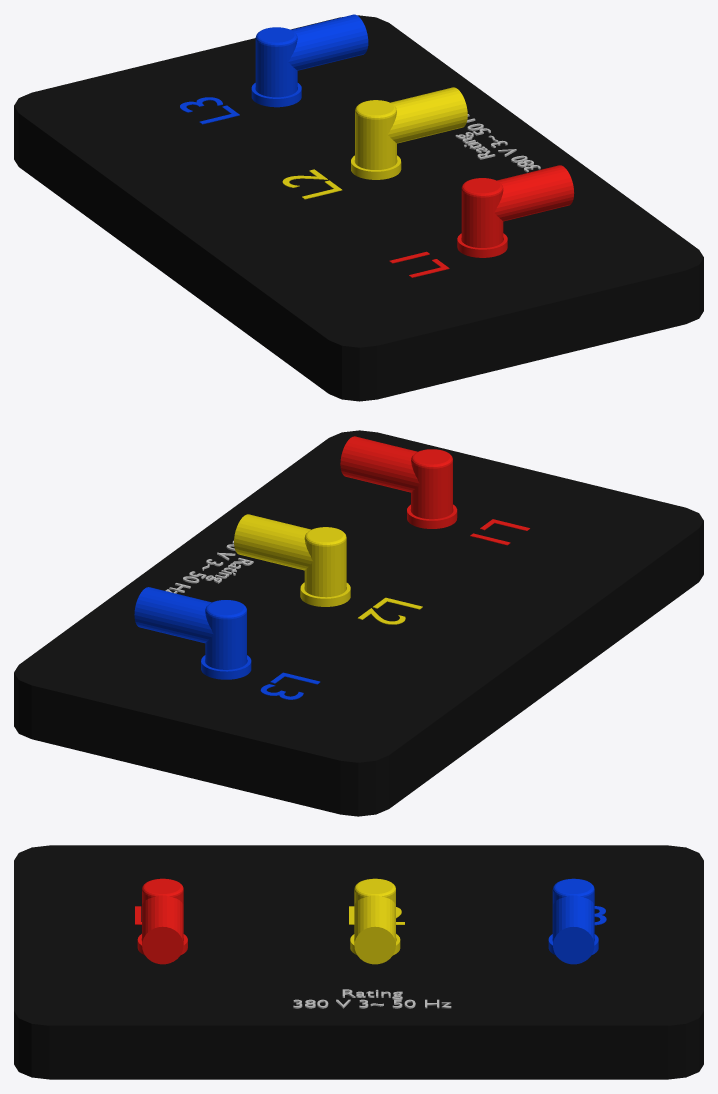
Rendered from Power.fbx.
3 views of the same model, one above another, from view 1: azimuth 30°, elevation 25°; view 2: azimuth 150°, elevation 25°; view 3: azimuth 270°, elevation 25° (orthographic).
Visible parts, largest first — view 1: Cube, Cylinder.003, Cylinder.001, Cylinder.002, socket.007, socket.006, socket.008; view 2: Cube, Cylinder.002, Cylinder.001, Cylinder.003, socket.007, socket.008, socket.006; view 3: Cube, Cylinder.003, Cylinder.001, Cylinder.002.
Part boxes in pixels (box(x1,y1,x2,y2)): Cube: box(14, 15, 703, 401); Cylinder.003: box(255, 14, 368, 97); Cylinder.001: box(461, 165, 574, 247); Cylinder.002: box(355, 87, 467, 169); socket.007: box(251, 83, 301, 107); socket.006: box(457, 233, 507, 257); socket.008: box(351, 155, 401, 179); Cube: box(14, 430, 703, 816); Cylinder.002: box(234, 514, 346, 597); Cylinder.001: box(340, 436, 452, 519); Cylinder.003: box(134, 587, 246, 669); socket.007: box(201, 655, 251, 679); socket.008: box(300, 582, 350, 606); socket.006: box(407, 504, 457, 528); Cube: box(14, 845, 703, 1079); Cylinder.003: box(552, 878, 594, 964); Cylinder.001: box(142, 878, 183, 964); Cylinder.002: box(354, 878, 395, 964).
Size of the model in its own units: 237 by 70.6 by 384.
